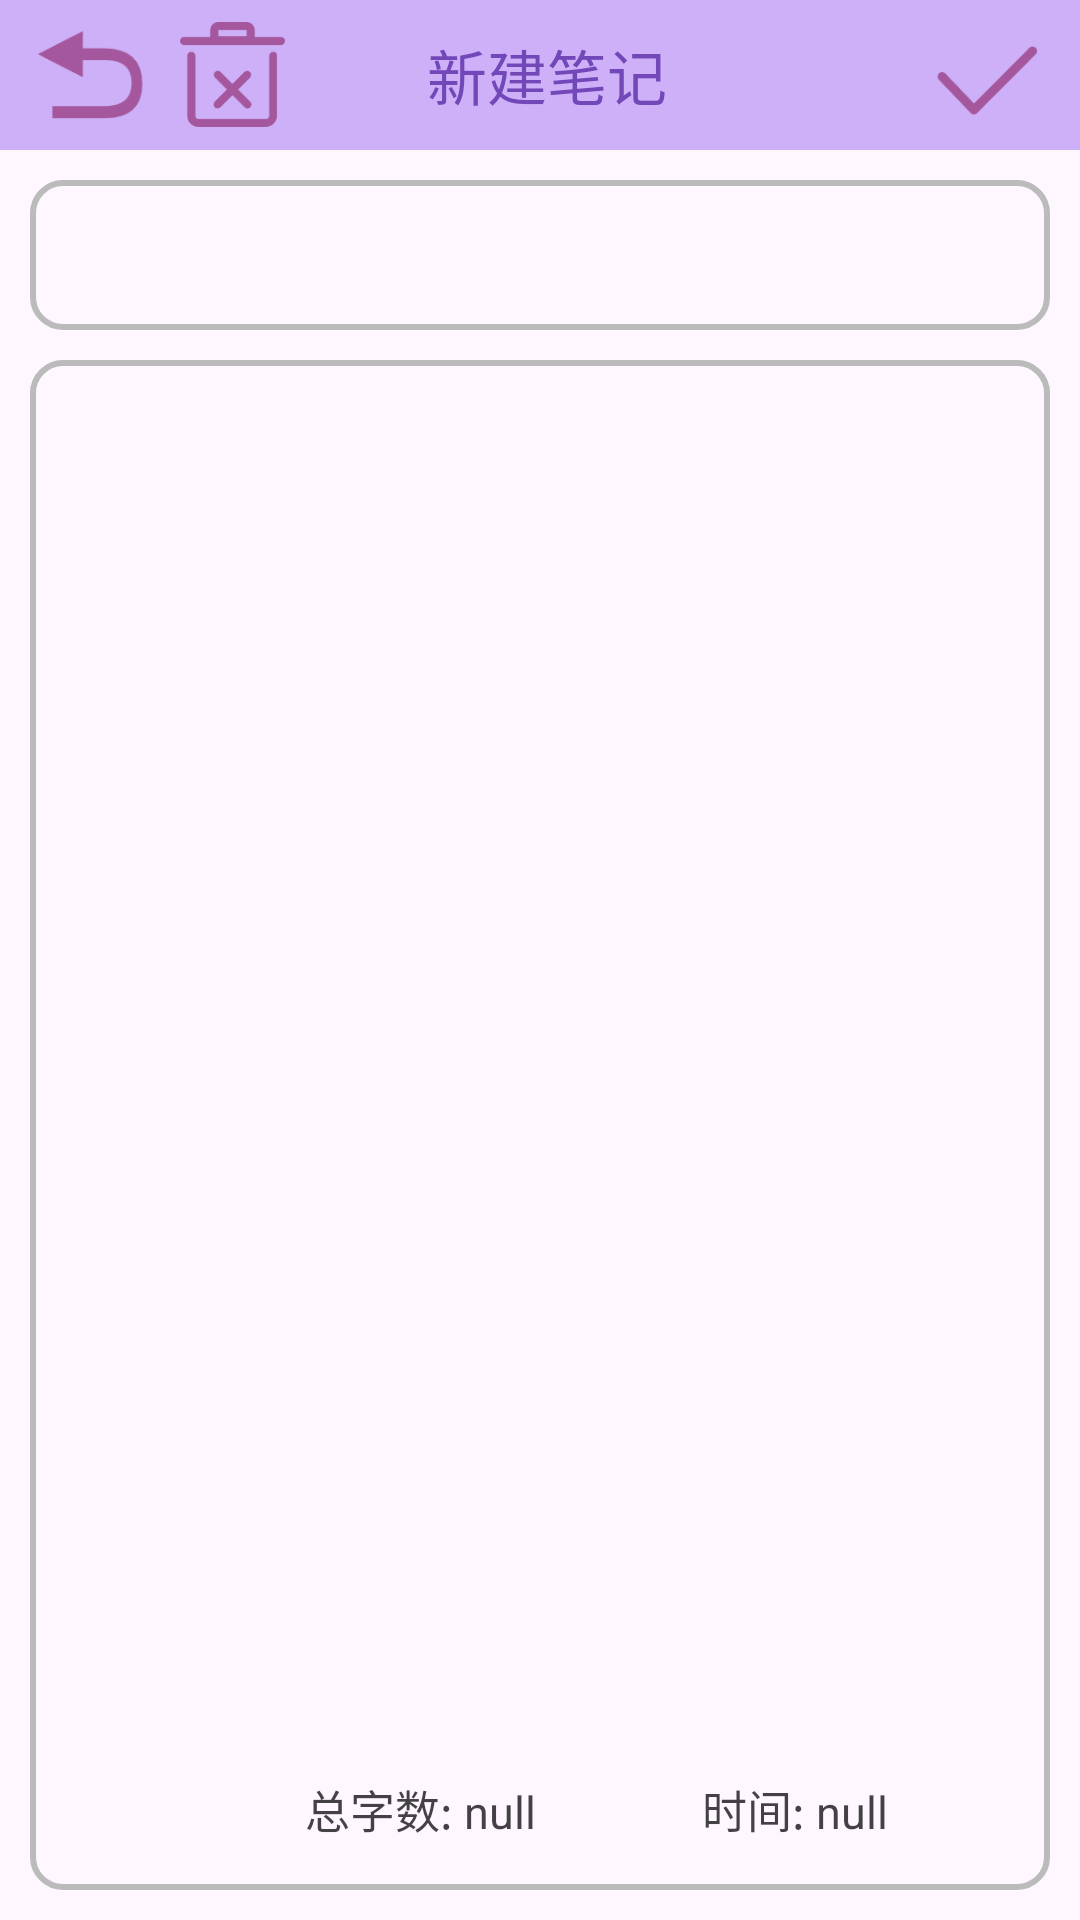

Locate icon controls on the screen. Image size 1080px x 1920px, boxes as [x1, y1, x2, y2].
back: [38, 31, 143, 118]
